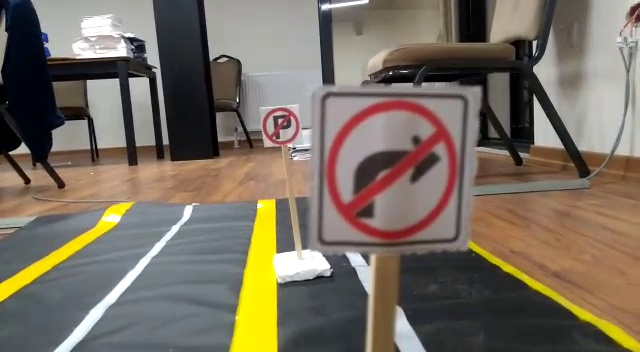park_yapilmaz: (260, 105, 301, 146)
saga_donulmez: (319, 89, 467, 248)
